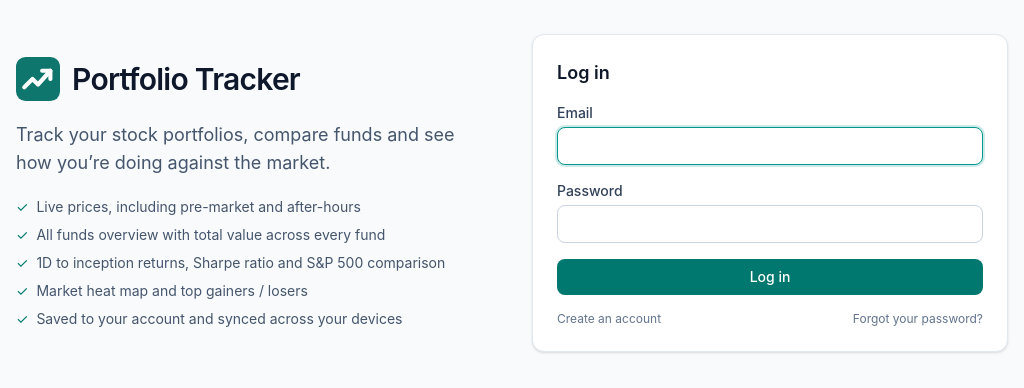
CloudGate › shows only the login page until signed in, and rejects a wrong password
Type "me@example.com" into the field labelled "Email" at [770, 146], box [557,127,983,165]
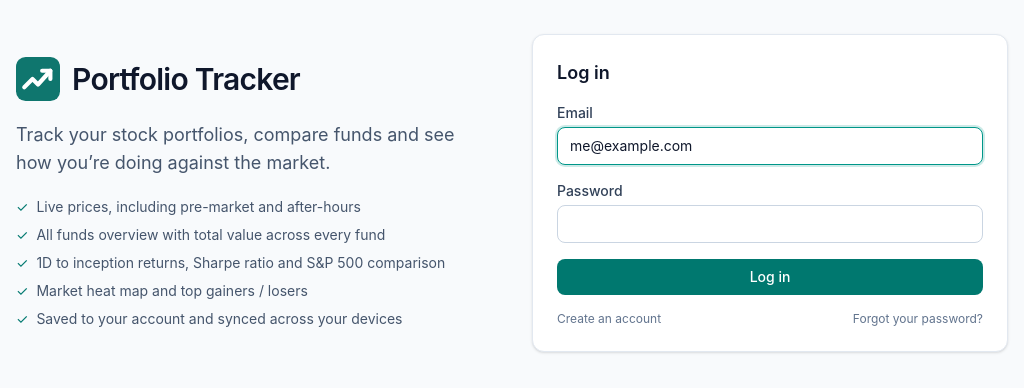
Type "wrong-password" into the password field labelled "Password" at [770, 224], box [557,205,983,243]
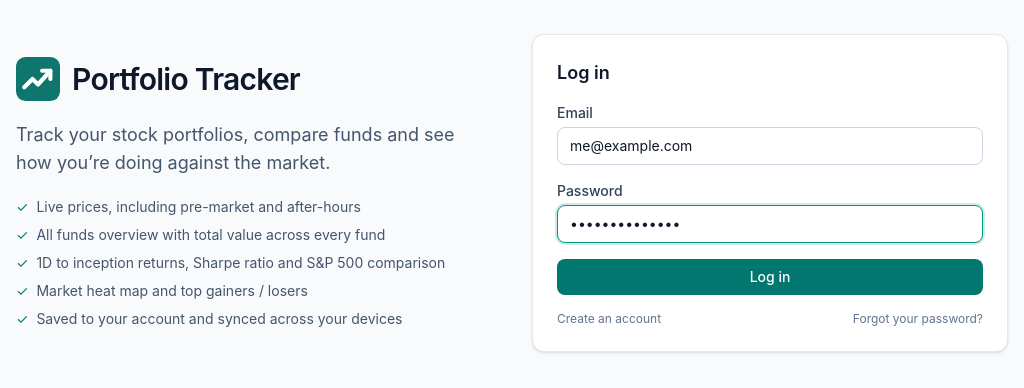
Click the button "Log in" at [770, 277], box [557,259,983,295]
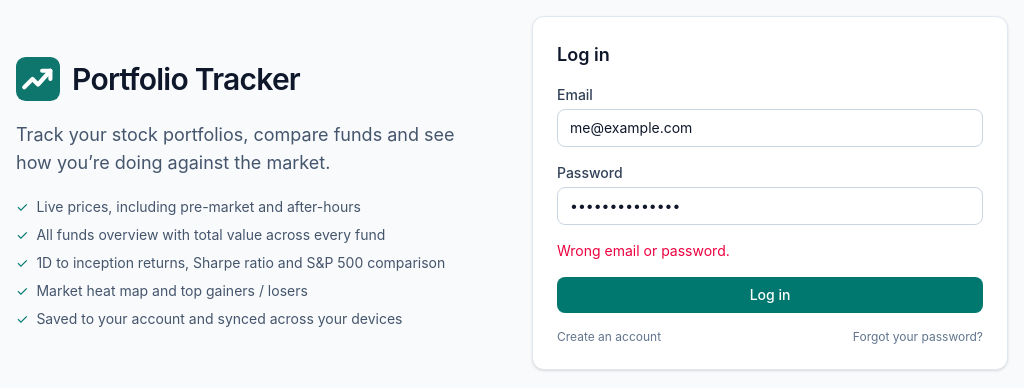
Check: the message reads "Wrong email or password.", box [557,242,730,259]
